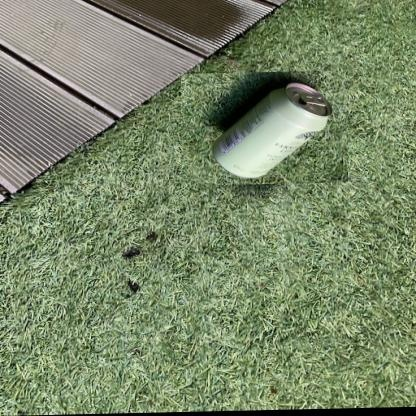trash: (213, 83, 331, 177)
